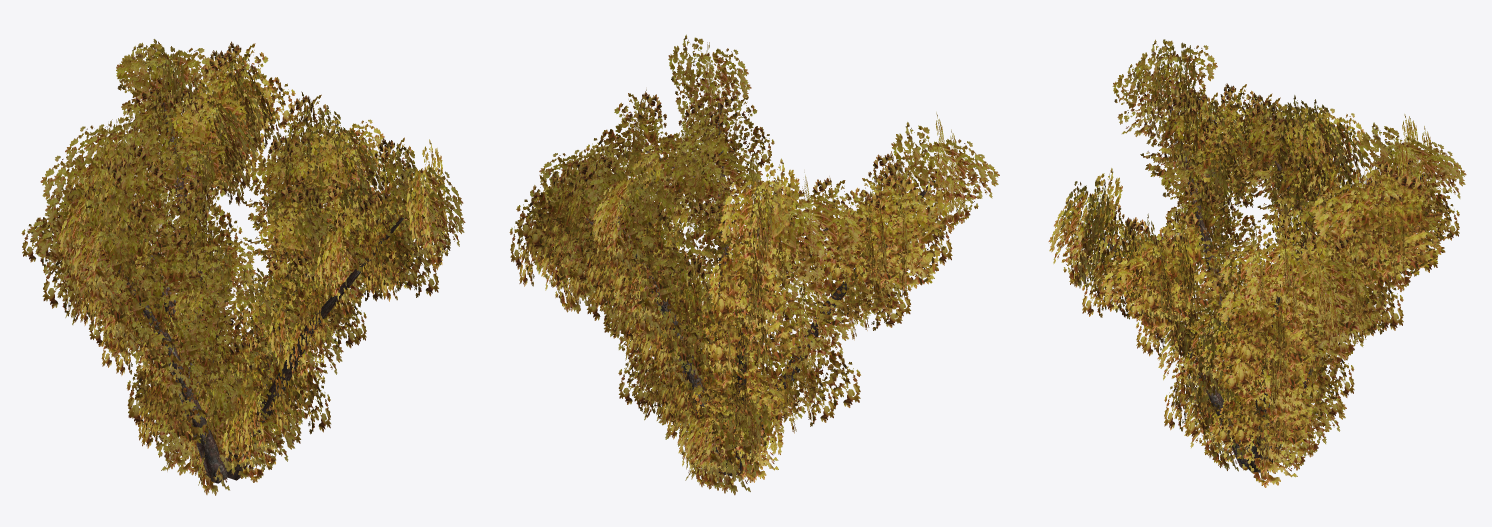
The model's file is bush_3d_03_yellow_lod0.glb.
The picture shows the model from 3 angles, left to right: view 1: azimuth 30°, elevation 25°; view 2: azimuth 150°, elevation 25°; view 3: azimuth 270°, elevation 25°; orthographic projection. The views are drawn at different scales.
Visible parts, largest first — view 1: foliage_cards, wood_geometry; view 2: foliage_cards, wood_geometry; view 3: foliage_cards, wood_geometry.
Boxes of the visible parts, x1,y1,x2,y2 form: foliage_cards: (21,39,465,495); wood_geometry: (105,78,403,483); foliage_cards: (509,34,999,495); wood_geometry: (576,103,935,476); foliage_cards: (1048,39,1466,487); wood_geometry: (1100,99,1424,472).
Bounding box in the file's own units: 2.39 × 2.09 × 2.27.
Materials: 2 (2 with a texture image).
